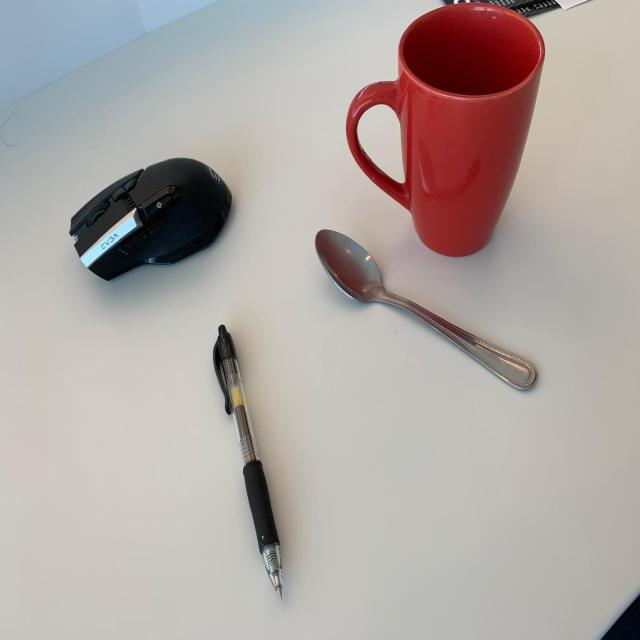Cup: (337, 0, 561, 273)
Mouse: (64, 140, 236, 292)
Spoon: (309, 222, 559, 406)
